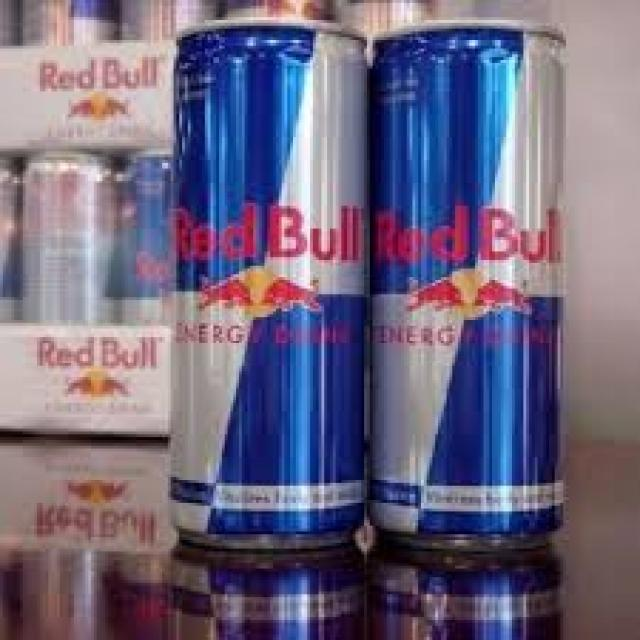red-bull: (372, 19, 580, 529), (174, 12, 364, 531)
